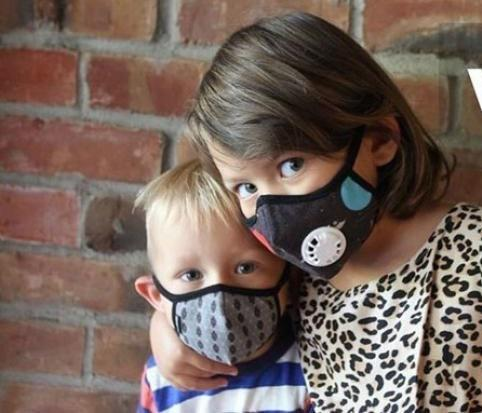OK: (226, 123, 377, 272), (168, 243, 286, 361)
